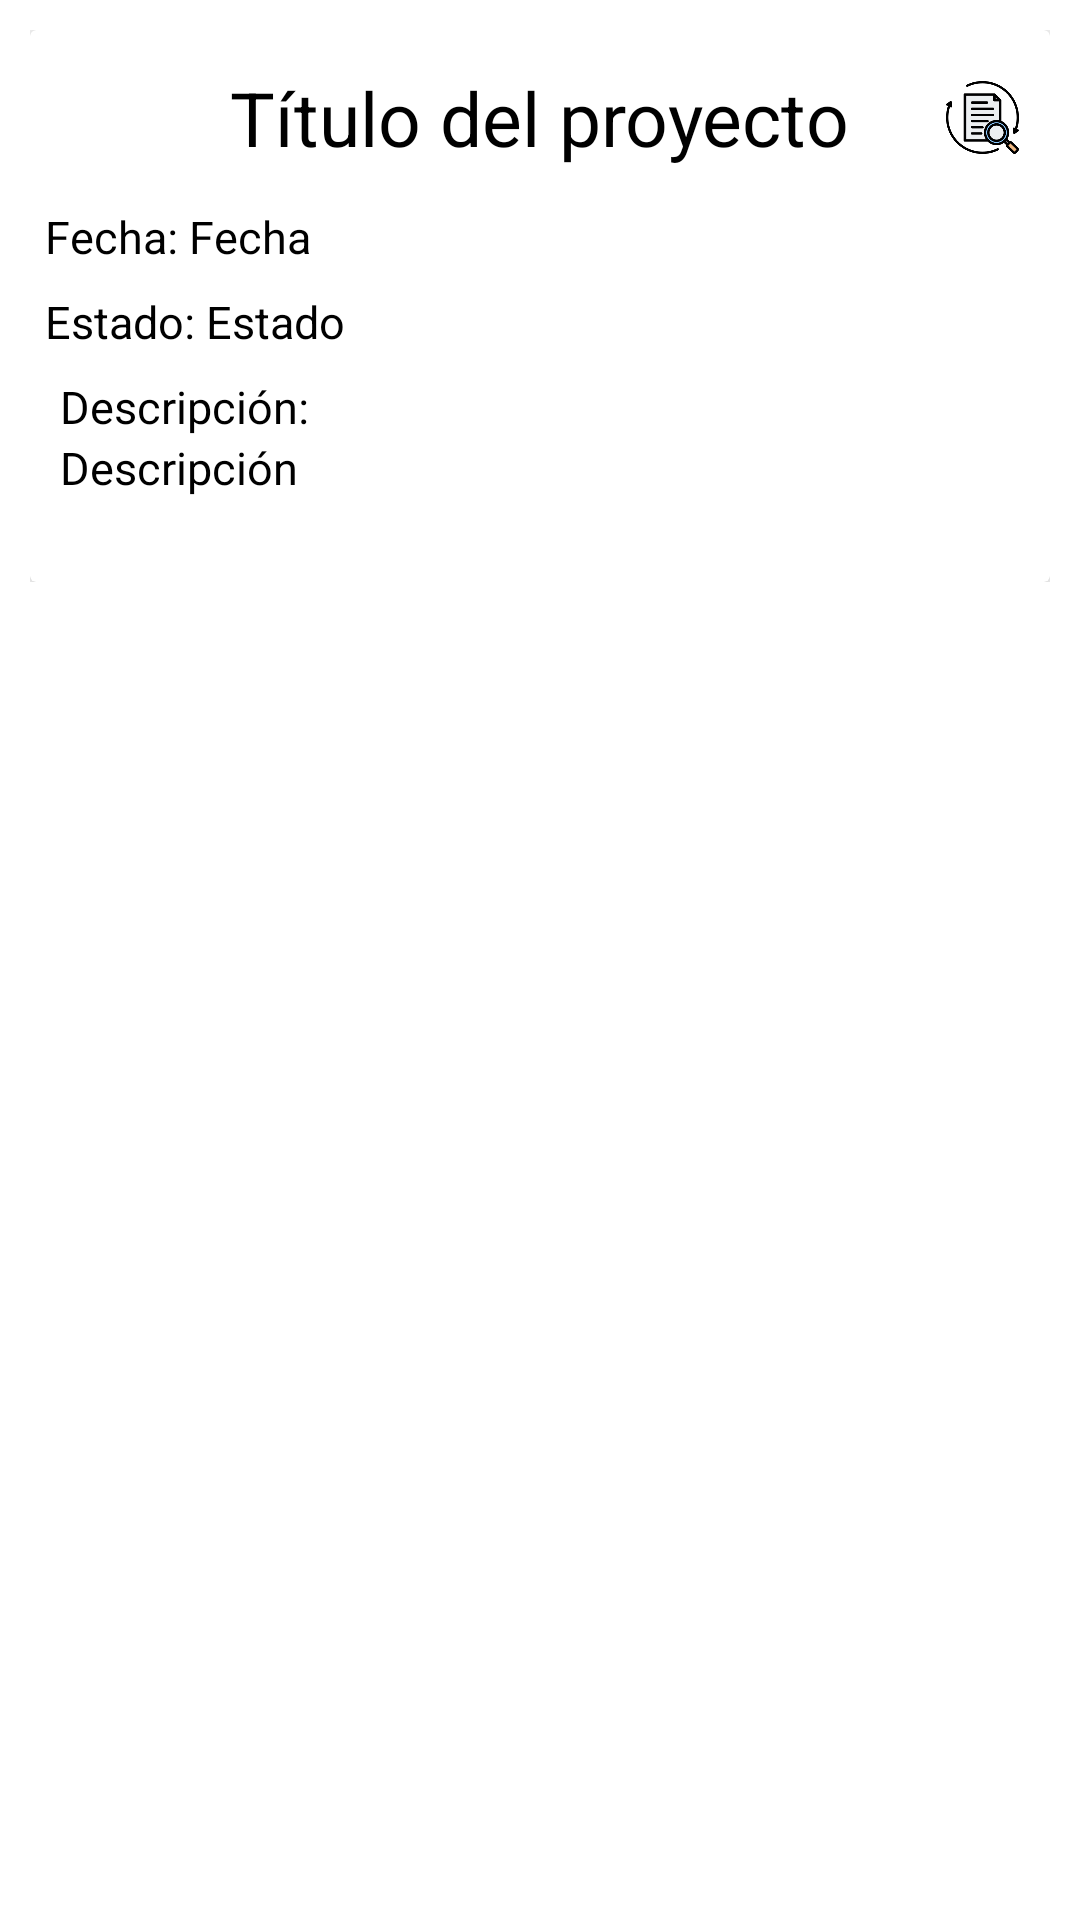

Screen size 1080 × 1920. Icon name, then its center in pixels as (x,y):
revisiones: (982,117)
